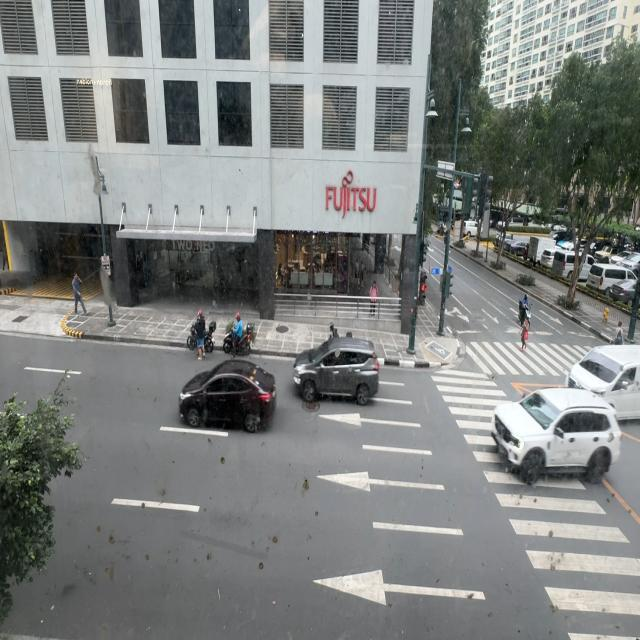crossing: (520, 316, 530, 356), (613, 320, 623, 350)
pedestrain: (369, 281, 378, 316)
